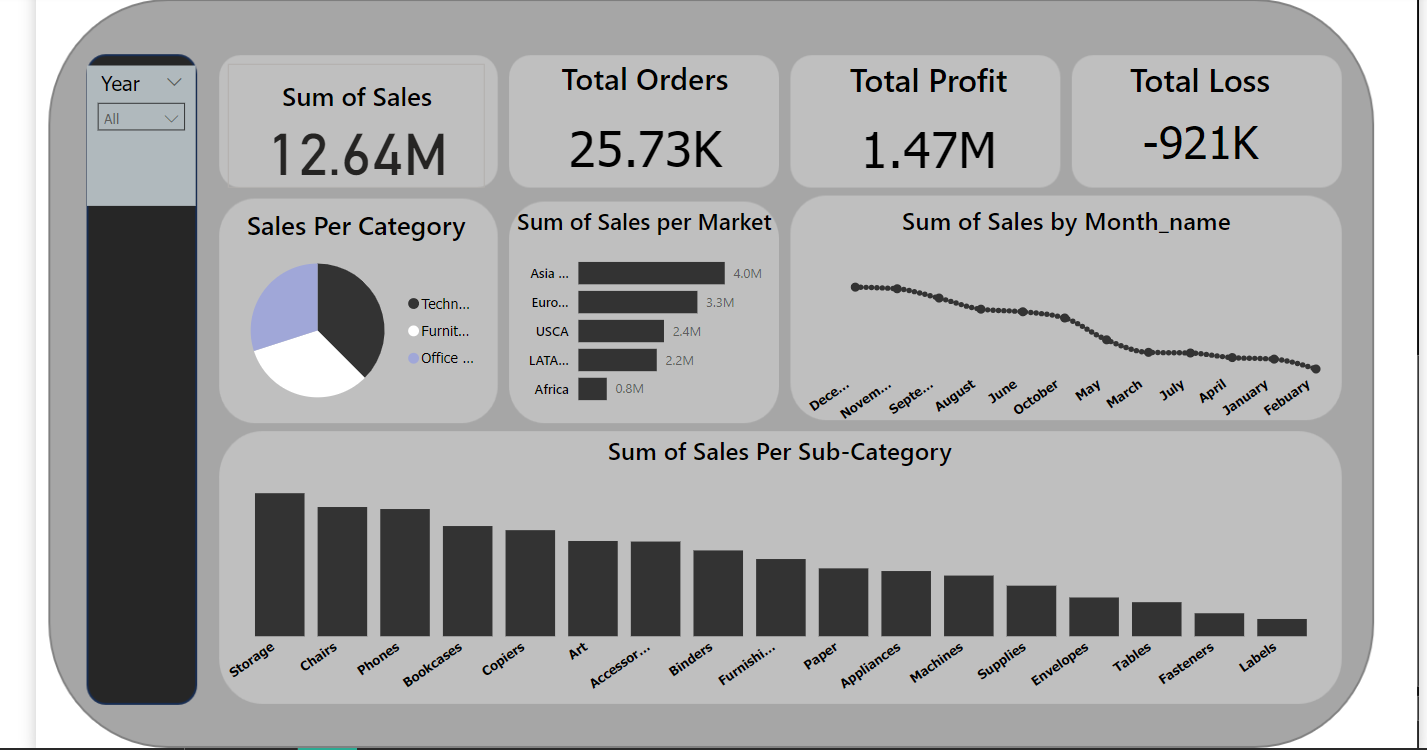

This screenshot's page, from the dashboard's own definition file:
{"tool":"powerbi","page":{"name":"Page 1","canvas":[1280,720],"ordinal":0},"visuals":[{"type":"cardVisual","fields":{"Data":["Sum(Orders.Sales)"]},"box":[172.4,74.8,248.9,125.2],"z":0},{"type":"card","title":"Total Orders","fields":{"Values":["CountNonNull(Orders.Order ID)"]},"box":[440.8,74.8,247.2,125.2],"z":1000},{"type":"card","title":"Total Profit","fields":{"Values":["Sum(Orders.Profit)"]},"box":[702.7,74.8,247.2,125.2],"z":2000},{"type":"card","title":"Total Loss","fields":{"Values":["Sum(Orders.Loss)"]},"box":[949.9,74.8,255.4,113.9],"z":3000},{"type":"pieChart","title":"Sales Per Category","fields":{"Category":["Orders.Category"],"Y":["Sum(Orders.Sales)"]},"box":[172.4,211.5,248.9,196.8],"z":4000},{"type":"columnChart","title":"Sum of Sales Per Sub-Category","fields":{"Category":["Orders.Sub-Category"],"Y":["Sum(Orders.Sales)"]},"box":[172.4,422.9,1032.9,248.9],"z":5000},{"type":"lineChart","fields":{"Category":["Orders.Month_name"],"Y":["Sum(Orders.Sales)"]},"box":[702.7,209.8,502.6,213.1],"z":6000},{"type":"clusteredBarChart","title":"Sum of Sales per Market","fields":{"Category":["Orders.Market"],"Y":["Sum(Orders.Sales)"]},"box":[439.2,211.5,248.9,196.8],"z":7000},{"type":"slicer","fields":{"Values":["Orders.Year"]},"box":[47.2,81.3,100.8,130.1],"z":8000}]}

Visuals, with their boxes on the page's 1280x720 design canvas (x1, y1, x2, y2). These are canvas units, not pixel positions in the 1427x750 screenshot, which may show the page scaled, cropped or inside an application window:
cardVisual - Sum(Orders.Sales): 172 75 421 200
"Total Orders" card: 441 75 688 200
"Total Profit" card: 703 75 950 200
"Total Loss" card: 950 75 1205 189
"Sales Per Category" pieChart: 172 212 421 408
"Sum of Sales Per Sub-Category" columnChart: 172 423 1205 672
lineChart - Orders.Month_name x Sum(Orders.Sales): 703 210 1205 423
"Sum of Sales per Market" clusteredBarChart: 439 212 688 408
slicer - Orders.Year: 47 81 148 211
